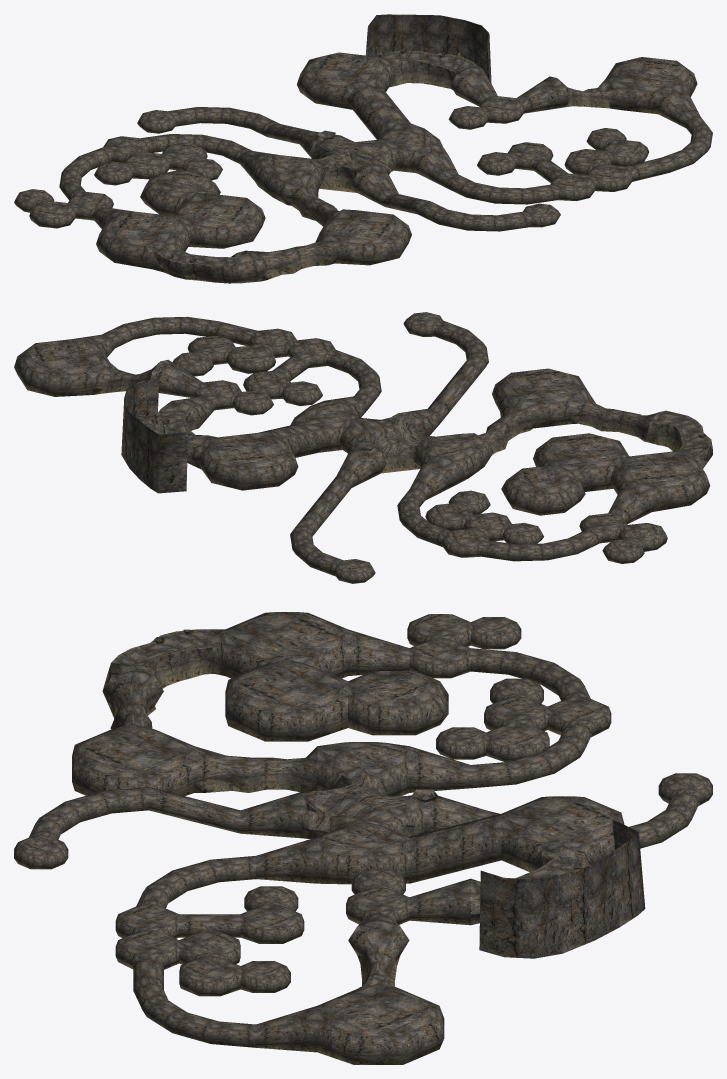
Rendered from pir_m_are_cav_catacombs.fbx.
3 renders of one model, top to bottom at view 1: azimuth 30°, elevation 25°; view 2: azimuth 150°, elevation 25°; view 3: azimuth 270°, elevation 25°, orthographic. The views are drawn at different scales.
Parts seen in each view (by area): view 1: standardCurveWide_left_vista_standardCurveWide_left_wall1, cvm27:standardElbow_wall, cvm19:standardElbow_wall, cvm16:standardThreeWay_wall, cvm43:standardElbow_wall, cvm37:standardElbow_wall, cvm17:standardCurveWide_left_wall, cvm52:standardFourWay_wall, standardCurveWide_left_vista_standardCurveWide_left_wall, cvm28:standardDeadEnd_wall, cvm18:standardHallWide_wall, cvm9:standardThreeWay_wall (+38 smaller); view 2: standardCurveWide_left_vista_standardCurveWide_left_wall1, cvm43:standardElbow_wall, cvm37:standardElbow_wall, cvm16:standardThreeWay_wall, cvm19:standardElbow_wall, cvm27:standardElbow_wall, cvm52:standardFourWay_wall, cvm28:standardDeadEnd_wall, cvm9:standardThreeWay_wall, cvm17:standardCurveWide_left_wall, cvm13:standardCurveNarrow_wall, cvm18:standardHallWide_wall (+38 smaller); view 3: standardCurveWide_left_vista_standardCurveWide_left_wall1, cvm37:standardElbow_wall, cvm27:standardElbow_wall, cvm19:standardElbow_wall, cvm16:standardThreeWay_wall, cvm43:standardElbow_wall, cvm28:standardDeadEnd_wall, cvm52:standardFourWay_wall, cvm17:standardCurveWide_left_wall, cvm29:standardThreeWay_wall, cvm20:standardHallWide_wall, cvm44:standardHallWide_descend_wall (+39 smaller).
Boxes of the visible parts, box(x1,y1,x2,y2) form: standardCurveWide_left_vista_standardCurveWide_left_wall1: box(365, 14, 491, 83); cvm27:standardElbow_wall: box(173, 192, 265, 248); cvm19:standardElbow_wall: box(320, 209, 411, 265); cvm16:standardThreeWay_wall: box(96, 211, 191, 269); cvm43:standardElbow_wall: box(297, 52, 391, 109); cvm37:standardElbow_wall: box(605, 57, 697, 114); cvm17:standardCurveWide_left_wall: box(146, 242, 263, 283); cvm52:standardFourWay_wall: box(306, 134, 396, 192); standardCurveWide_left_vista_standardCurveWide_left_wall: box(374, 49, 481, 89); cvm28:standardDeadEnd_wall: box(140, 170, 220, 215); cvm18:standardHallWide_wall: box(246, 232, 337, 281); cvm9:standardThreeWay_wall: box(249, 154, 322, 204); standardCurveWide_left_vista_standardCurveWide_left_wall1: box(121, 378, 187, 493); cvm43:standardElbow_wall: box(198, 432, 298, 490); cvm37:standardElbow_wall: box(14, 338, 109, 396); cvm16:standardThreeWay_wall: box(610, 451, 709, 511); cvm19:standardElbow_wall: box(492, 368, 587, 428); cvm27:standardElbow_wall: box(533, 433, 629, 491); cvm52:standardFourWay_wall: box(339, 412, 435, 472); cvm28:standardDeadEnd_wall: box(501, 465, 585, 515); cvm9:standardThreeWay_wall: box(417, 433, 493, 485); cvm17:standardCurveWide_left_wall: box(647, 410, 712, 468); cvm13:standardCurveNarrow_wall: box(480, 529, 602, 561); cvm18:standardHallWide_wall: box(569, 391, 657, 442); standardCurveWide_left_vista_standardCurveWide_left_wall1: box(479, 819, 645, 958); cvm37:standardElbow_wall: box(317, 983, 444, 1064); cvm27:standardElbow_wall: box(225, 659, 347, 741); cvm19:standardElbow_wall: box(72, 723, 194, 795); cvm16:standardThreeWay_wall: box(225, 612, 347, 678); cvm43:standardElbow_wall: box(501, 796, 624, 871); cvm28:standardDeadEnd_wall: box(348, 670, 448, 735); cvm52:standardFourWay_wall: box(302, 769, 424, 838); cvm17:standardCurveWide_left_wall: box(103, 629, 225, 689); cvm29:standardThreeWay_wall: box(317, 821, 409, 884); cvm20:standardHallWide_wall: box(194, 746, 317, 792); cvm44:standardHallWide_descend_wall: box(409, 813, 501, 883).
Size of the model in its own units: 169976 by 19276 by 113827.
Materials: 3 (3 with a texture image).
